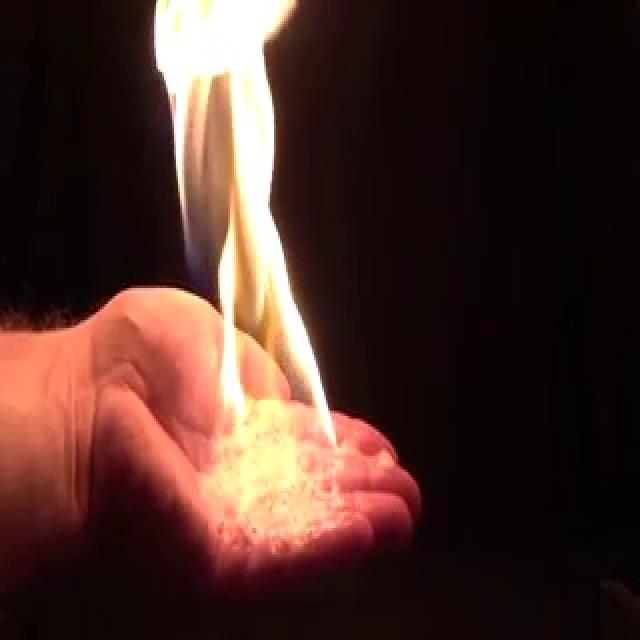fire: (149, 0, 345, 482)
